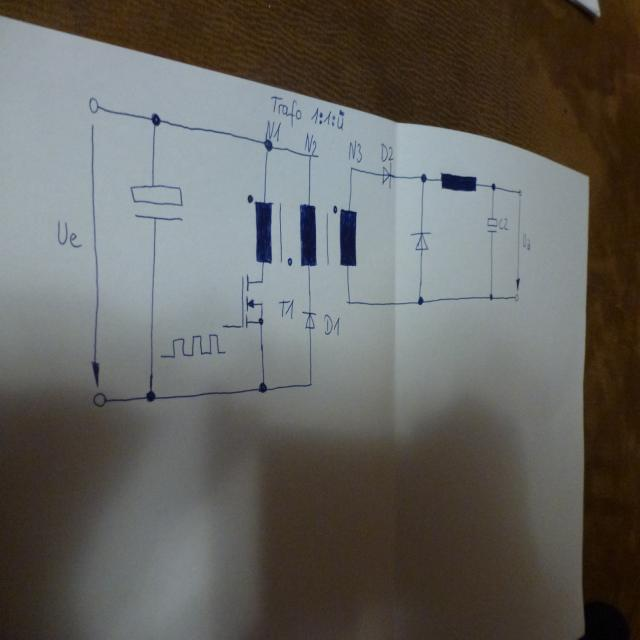capacitor: (126, 181, 185, 225), (485, 216, 498, 234)
diode: (410, 228, 430, 253), (380, 161, 393, 189), (300, 310, 316, 330)
inductor: (440, 170, 478, 193)
junction: (142, 386, 158, 405), (148, 110, 162, 128), (256, 378, 268, 394), (262, 138, 274, 152), (418, 170, 428, 184), (416, 294, 424, 306), (487, 291, 494, 302), (489, 181, 496, 192), (345, 296, 352, 306), (307, 379, 314, 388), (348, 164, 354, 172), (307, 152, 313, 159)
terminal: (90, 388, 110, 409), (88, 94, 100, 115), (513, 292, 521, 302), (517, 188, 523, 198), (220, 323, 226, 328)
text: (268, 94, 344, 131), (55, 217, 82, 249), (322, 313, 341, 336), (277, 298, 295, 320), (347, 139, 363, 163), (265, 117, 280, 142), (304, 131, 318, 157), (379, 142, 395, 163), (522, 231, 532, 251), (498, 217, 508, 231)
transformer: (245, 193, 360, 267)
transistor: (239, 273, 264, 329)
